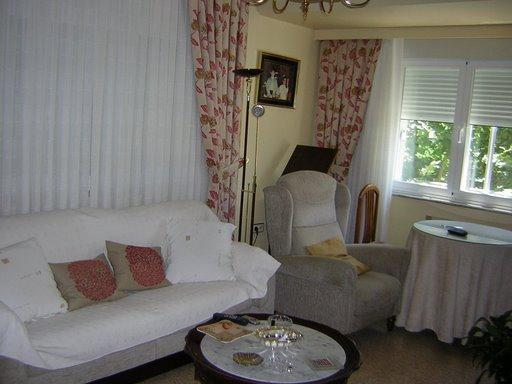Ventana: (2, 13, 225, 195), (399, 66, 508, 207)
